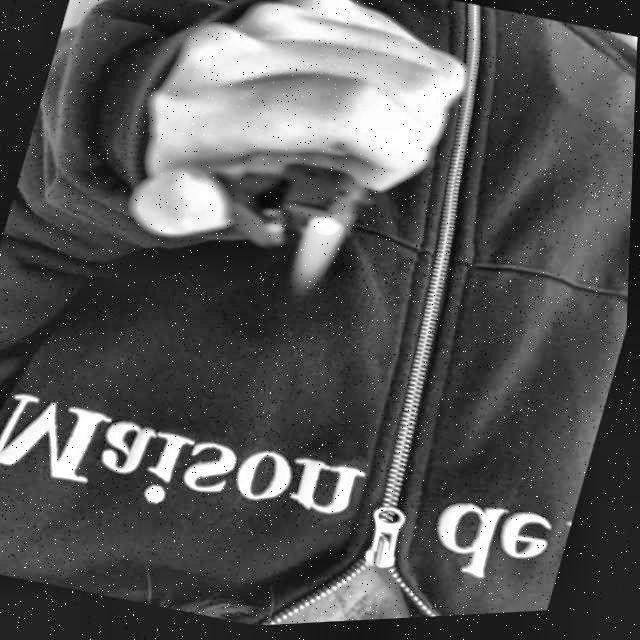Fire: (288, 214, 349, 304)
